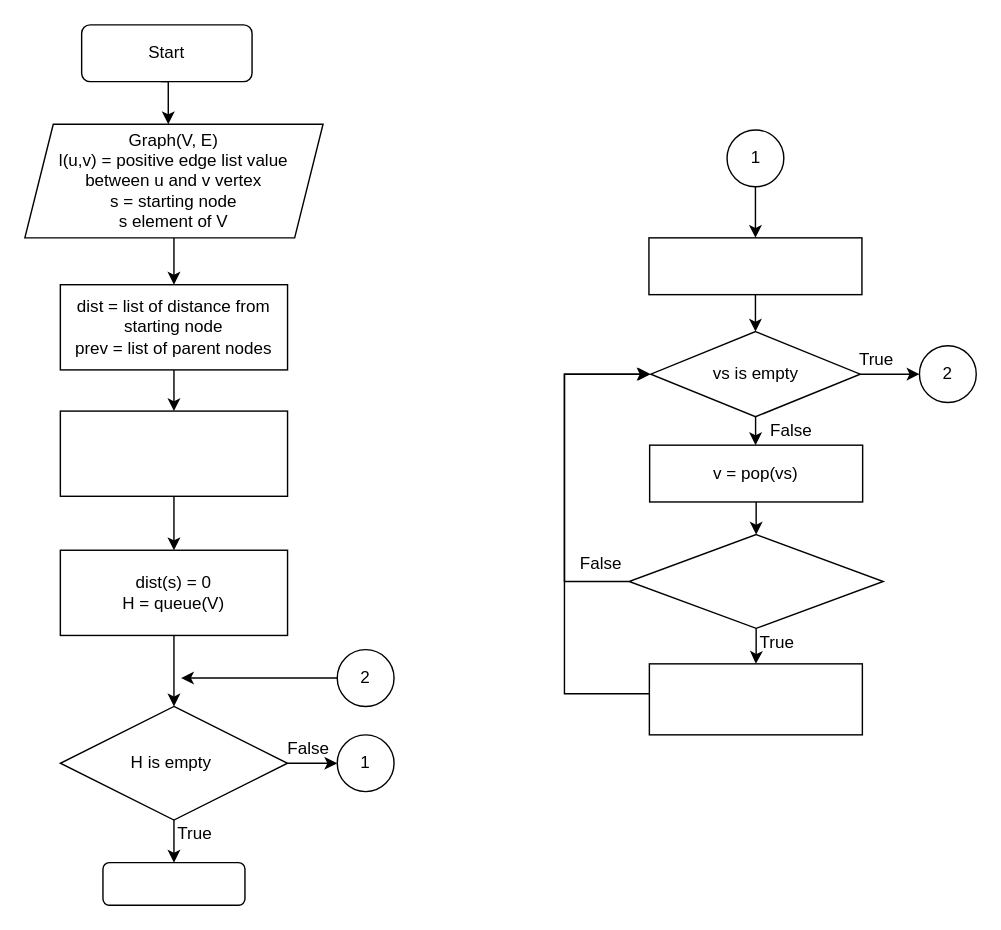
Some shapes in this 1001 by 930 pixel diagram are drawn without their labels. The shapes that lost their labels are listed below. From the top down, each one's box as (x1, y1, x2, y2) in pixels, then its label:
(648, 236, 862, 295): u = get_min_distance(H) vs = neighbors(u)
(59, 410, 288, 496): for all u element V dist(u) = infinity prev(u) = none
(628, 533, 883, 628): dist(v) > dist(u) + l(u,v)
(648, 662, 862, 735): dist(v) = dist(u) + l(u,v) prev(v) = u
(102, 861, 245, 905): end
